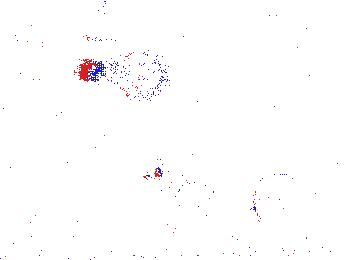flame jellyfish: (79, 48, 172, 103), (143, 157, 216, 214), (245, 173, 310, 225)
